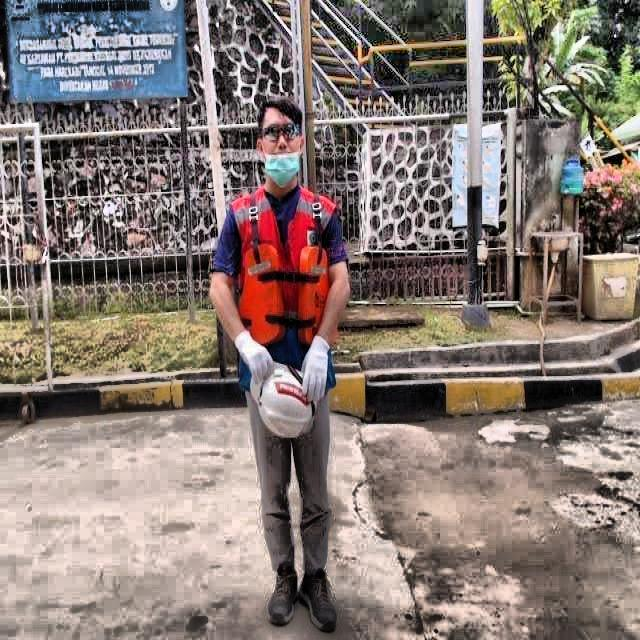safety_jacket: (230, 186, 338, 390)
